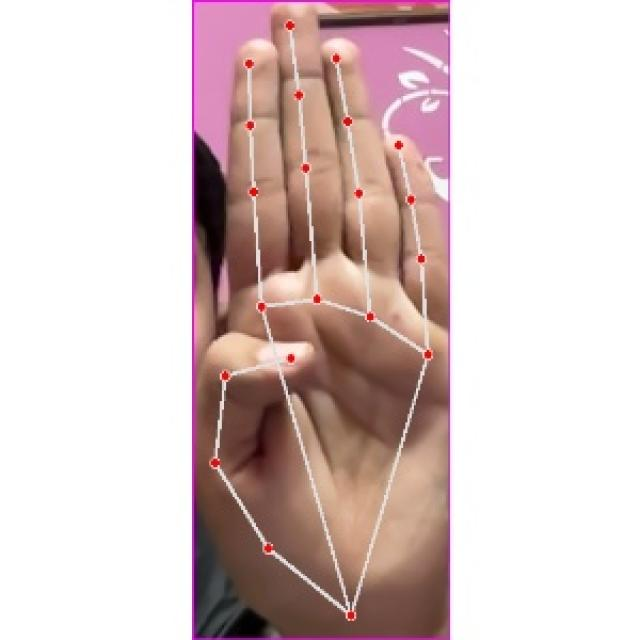B: (194, 0, 448, 638)
